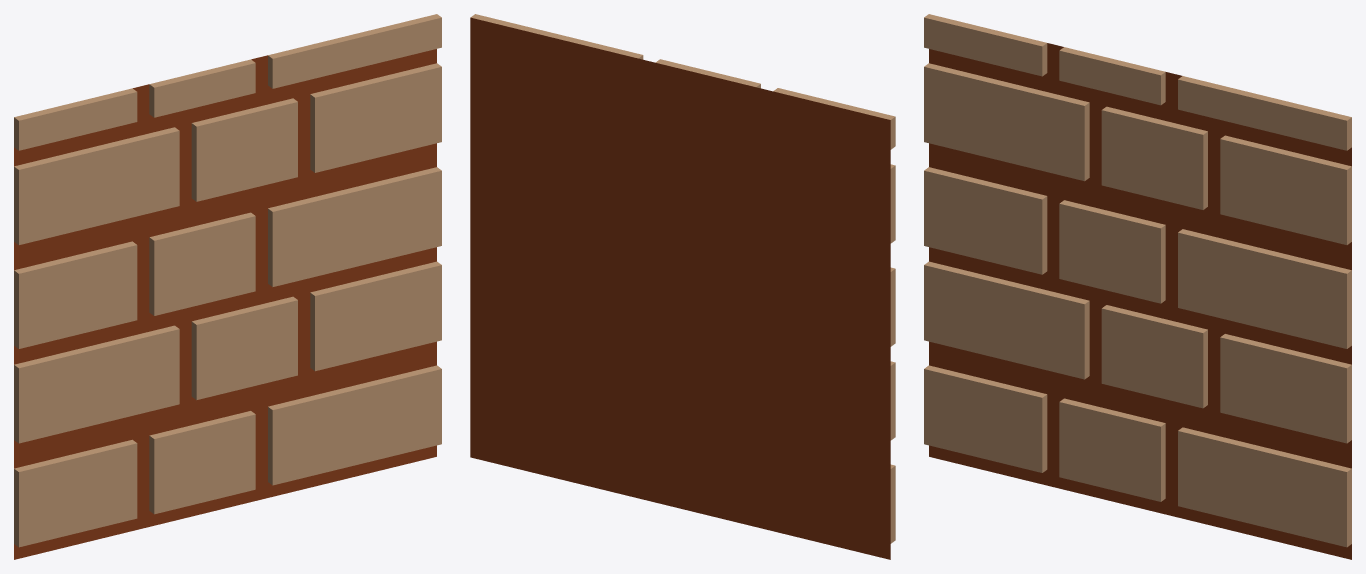
The model's file is Ext-BrickV1HalfWallSmall.fbx.
3 renders of one model, left to right at view 1: azimuth 30°, elevation 25°; view 2: azimuth 150°, elevation 25°; view 3: azimuth 330°, elevation 25°, orthographic.
Visible parts, largest first — view 1: Ext-BrickV1HalfWallSmall; view 2: Ext-BrickV1HalfWallSmall; view 3: Ext-BrickV1HalfWallSmall.
Boxes of the visible parts, x1,y1,x2,y2 form: Ext-BrickV1HalfWallSmall: [14, 14, 441, 559]; Ext-BrickV1HalfWallSmall: [470, 14, 895, 559]; Ext-BrickV1HalfWallSmall: [924, 14, 1351, 559].
Bounding box in the file's own units: 100 × 100 × 2.
